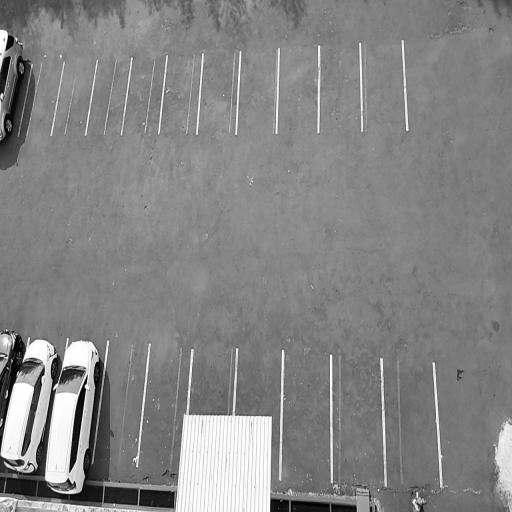Car: (38, 334, 109, 499), (0, 332, 60, 482), (0, 24, 35, 155), (0, 323, 28, 452)
Space Available: (382, 356, 443, 487), (331, 352, 385, 487), (92, 339, 150, 463), (279, 350, 332, 483), (138, 341, 189, 467), (360, 40, 409, 133), (319, 42, 363, 133), (277, 46, 319, 132), (187, 345, 237, 417), (197, 52, 241, 133), (236, 49, 279, 131), (85, 58, 132, 133), (122, 56, 167, 134), (51, 60, 97, 136), (158, 53, 202, 132), (234, 345, 283, 413), (18, 60, 63, 133)
